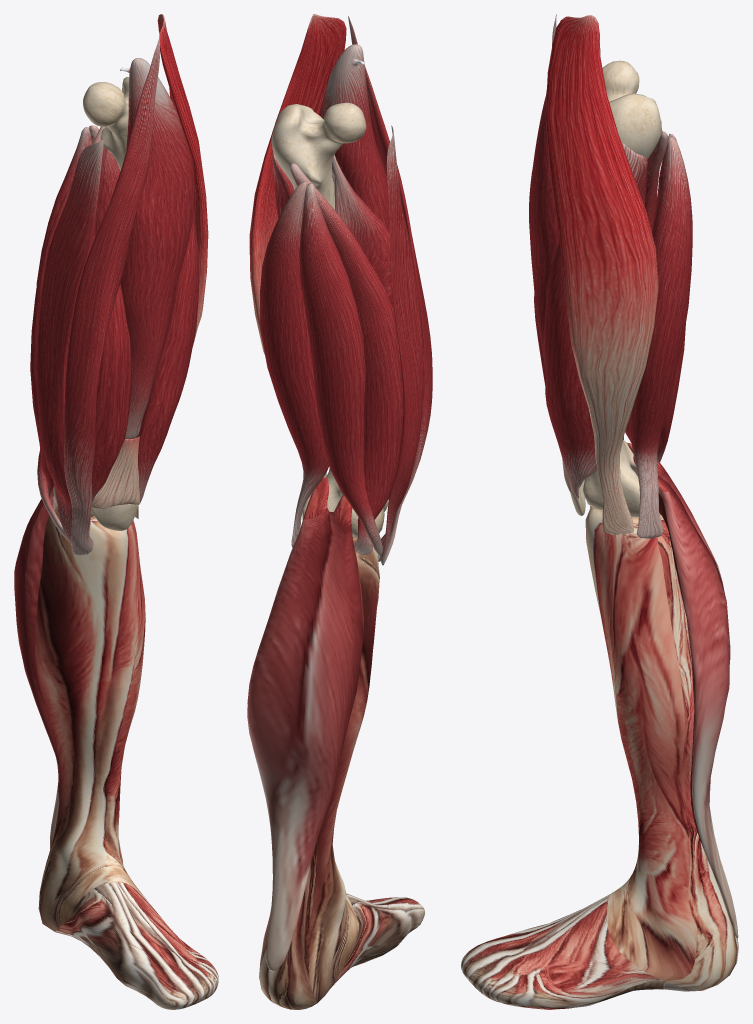
The model's file is LegModel.fbx.
3 views of the same model, side by side, from view 1: azimuth 30°, elevation 25°; view 2: azimuth 150°, elevation 25°; view 3: azimuth 270°, elevation 25° (orthographic). The views are drawn at different scales.
Parts seen in each view (by area): view 1: PiernaCompleta, RectoFemoral_L, Sartorio, RectoInterno, VastoLateral_L, VastoMedial_L, TensorFasciaLata, Femur_L, TendonFemoralCuadriceps_L, Semimembranoso, BicepsCrural, Semitendinoso (+1 smaller); view 2: PiernaCompleta, BicepsCrural, Semitendinoso, Semimembranoso, RectoInterno, TensorFasciaLata, Femur_L, RectoFemoral_L, Sartorio, VastoMedial_L, VastoLateral_L; view 3: PiernaCompleta, TensorFasciaLata, Semitendinoso, VastoLateral_L, Femur_L, RectoFemoral_L, Semimembranoso, BicepsCrural.
Boxes of the visible parts, <box> form: PiernaCompleta: <box>14,494,218,1009</box>; RectoFemoral_L: <box>120,58,194,439</box>; Sartorio: <box>64,39,159,555</box>; RectoInterno: <box>36,140,103,544</box>; VastoLateral_L: <box>136,205,198,504</box>; VastoMedial_L: <box>91,283,131,506</box>; TensorFasciaLata: <box>135,14,208,518</box>; Femur_L: <box>53,77,129,517</box>; TendonFemoralCuadriceps_L: <box>91,436,139,508</box>; Semimembranoso: <box>30,126,107,510</box>; BicepsCrural: <box>36,127,96,540</box>; Semitendinoso: <box>89,125,120,237</box>; PiernaCompleta: <box>247,477,424,1009</box>; BicepsCrural: <box>299,183,382,559</box>; Semitendinoso: <box>260,181,328,547</box>; Semimembranoso: <box>290,163,402,554</box>; RectoInterno: <box>378,125,424,561</box>; TensorFasciaLata: <box>249,14,346,478</box>; Femur_L: <box>271,102,384,538</box>; RectoFemoral_L: <box>319,44,389,232</box>; Sartorio: <box>348,16,432,565</box>; VastoMedial_L: <box>332,155,403,426</box>; VastoLateral_L: <box>272,150,294,218</box>; PiernaCompleta: <box>461,443,738,1009</box>; TensorFasciaLata: <box>545,15,658,534</box>; Semitendinoso: <box>628,135,692,538</box>; VastoLateral_L: <box>544,142,647,498</box>; Femur_L: <box>583,60,662,517</box>; RectoFemoral_L: <box>529,94,559,367</box>; Semimembranoso: <box>625,131,668,459</box>; BicepsCrural: <box>653,133,685,462</box>.
Size of the model in its own units: 19.09 by 111 by 28.16.
Materials: 14 (14 with a texture image).
